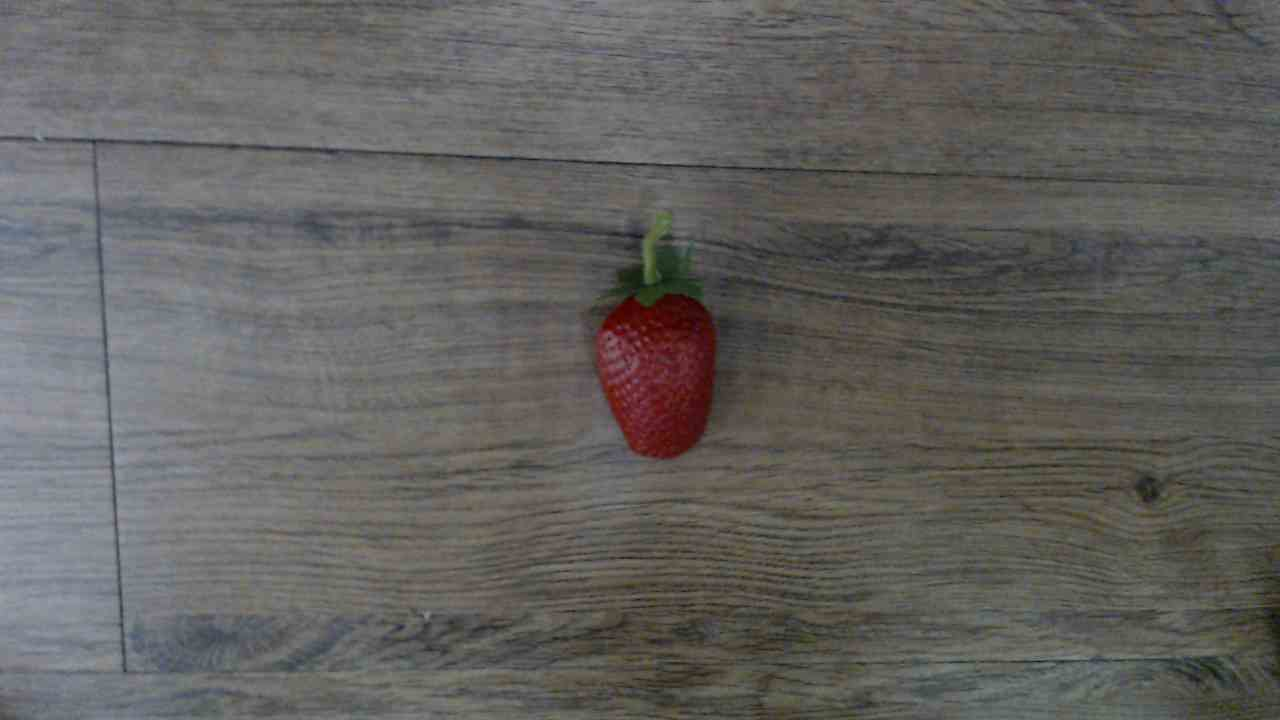strawberry: (591, 269, 721, 472)
